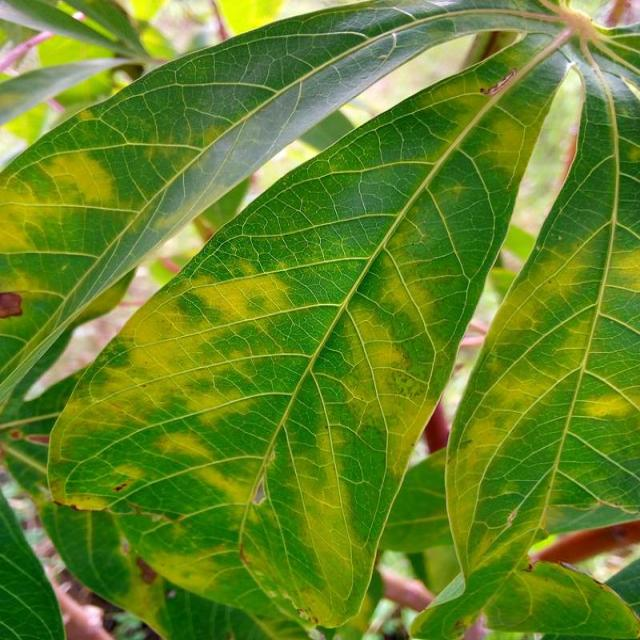cassava leaf: (38, 26, 582, 636), (410, 63, 638, 638)
